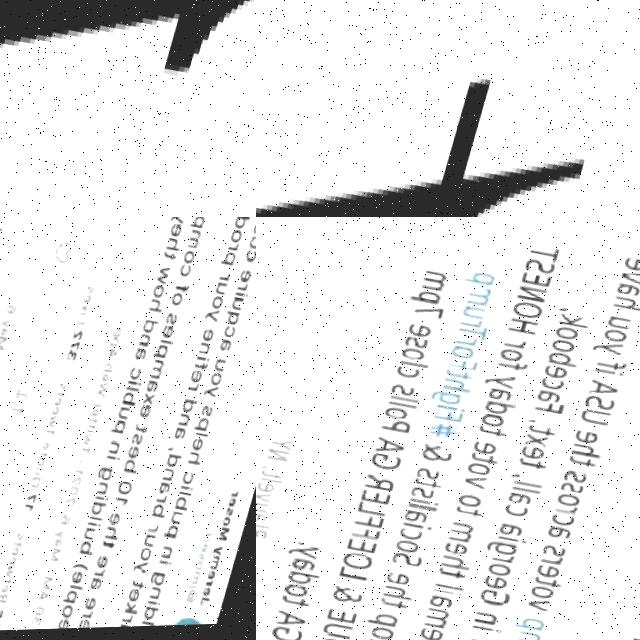0: (124, 481, 142, 498), (76, 487, 88, 498), (43, 607, 54, 618)
1: (122, 497, 137, 510), (32, 504, 42, 513), (82, 471, 92, 479)
2: (73, 496, 85, 509), (79, 477, 90, 489), (78, 331, 89, 342)
3: (41, 617, 53, 628), (72, 352, 83, 363)
5: (2, 609, 14, 620)
6: (68, 516, 80, 529), (0, 619, 10, 632), (11, 305, 22, 316)
7: (414, 303, 446, 322), (34, 493, 45, 506), (74, 341, 86, 352)
T: (256, 0, 622, 217), (0, 0, 256, 164)
